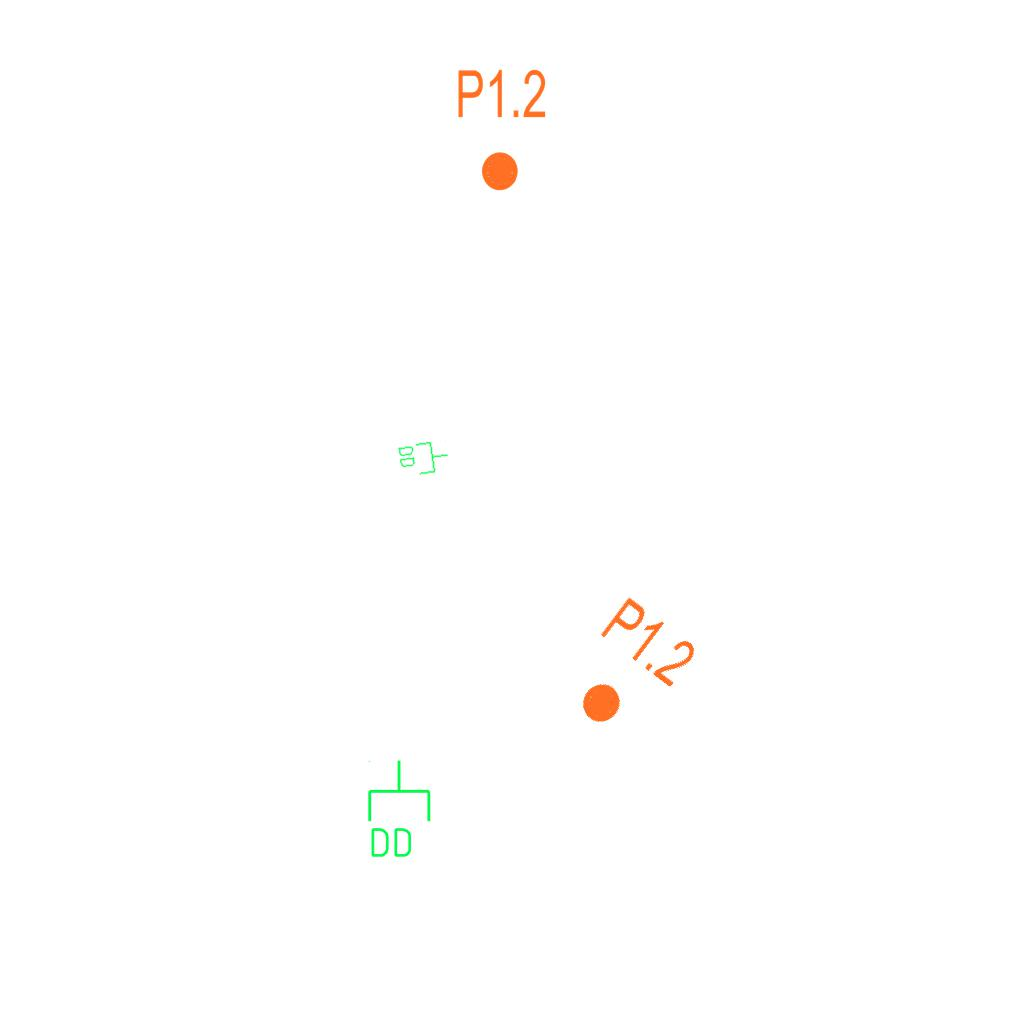Datenanschluss_zweifach: (364, 758, 433, 861), (395, 437, 452, 479)
Downlight_LED_Einbauleuchten_Flur: (551, 591, 704, 751), (455, 66, 548, 194)
